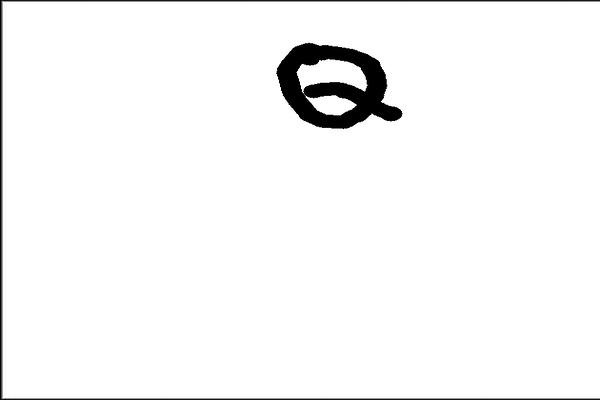Q: (265, 31, 411, 135)
